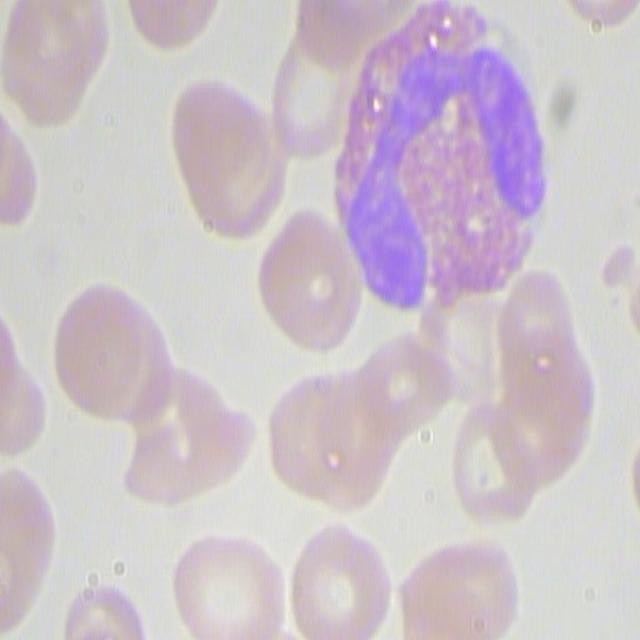RBC: (499, 262, 594, 495), (261, 360, 401, 514), (177, 77, 290, 246), (49, 280, 171, 429), (126, 358, 243, 512), (422, 274, 525, 416), (283, 509, 396, 638), (254, 212, 356, 352), (391, 530, 520, 638), (0, 2, 106, 133), (168, 526, 285, 637), (266, 23, 360, 160), (442, 398, 540, 527), (0, 459, 55, 633), (291, 0, 431, 61), (61, 580, 153, 640), (0, 104, 40, 232), (123, 0, 221, 51)
WBC: (333, 0, 555, 342)
